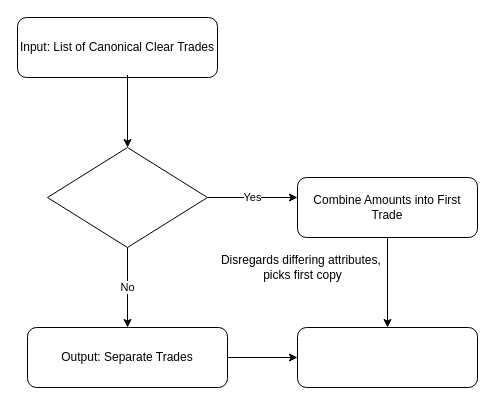
The diagram is 495 pixels wide and 405 high, and some of its shapes have lost their labels. Each missing label, with the centre of its shape:
Can Aggregate?: the point at 127,197
Output: Aggregated Trade: the point at 387,357
